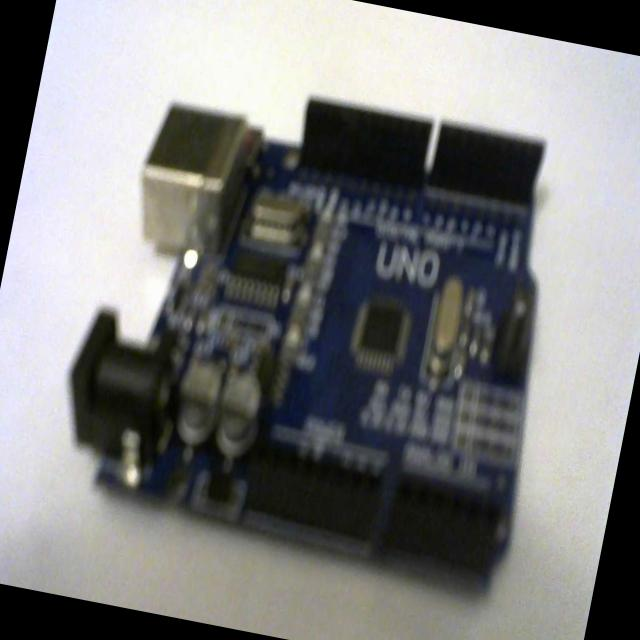arduino: (38, 43, 600, 612)
